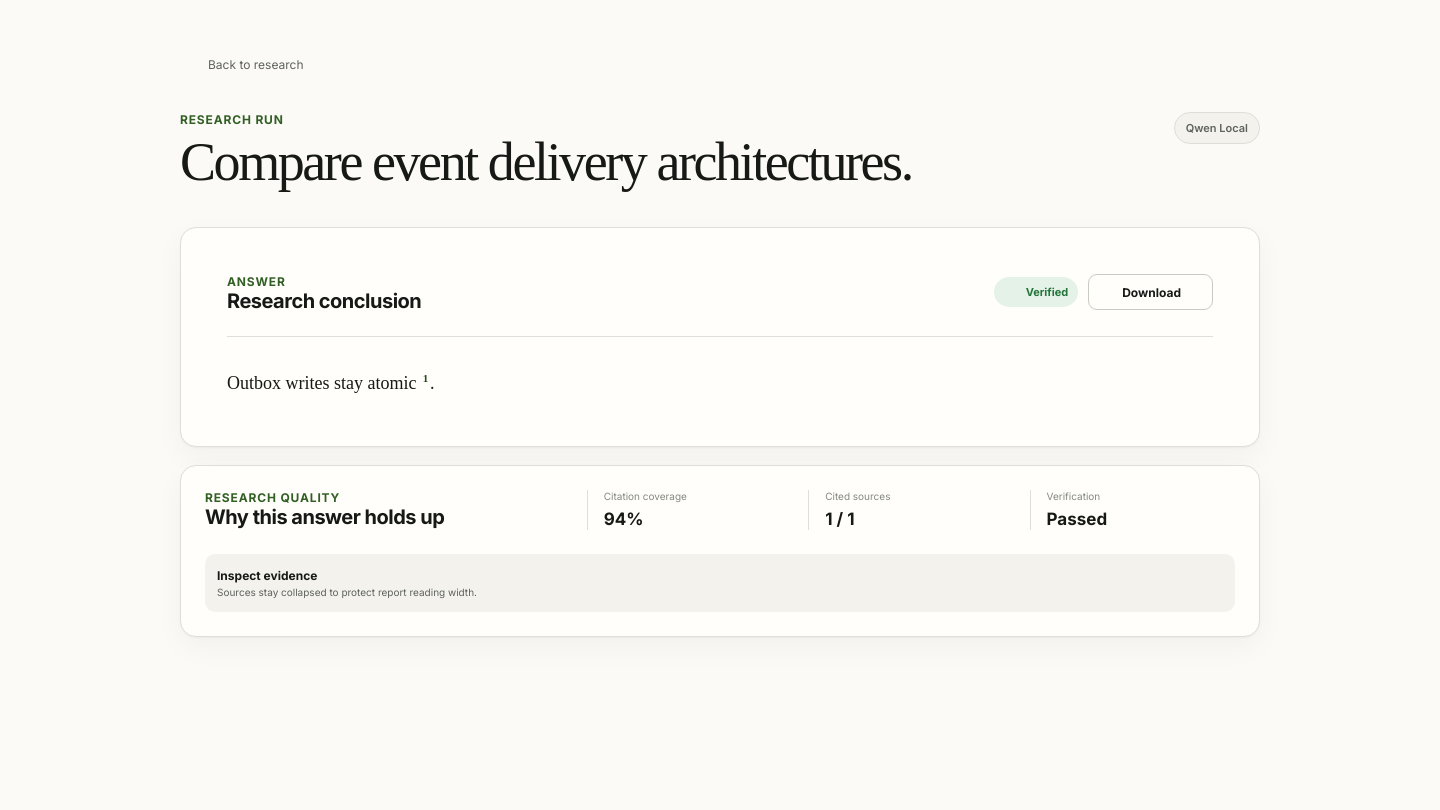
Test: ResearchDetail › turns citation markers into numbered links that jump to their source
Click the link "1" at point(425, 378), box [423,372,428,384]
(page scrolled)
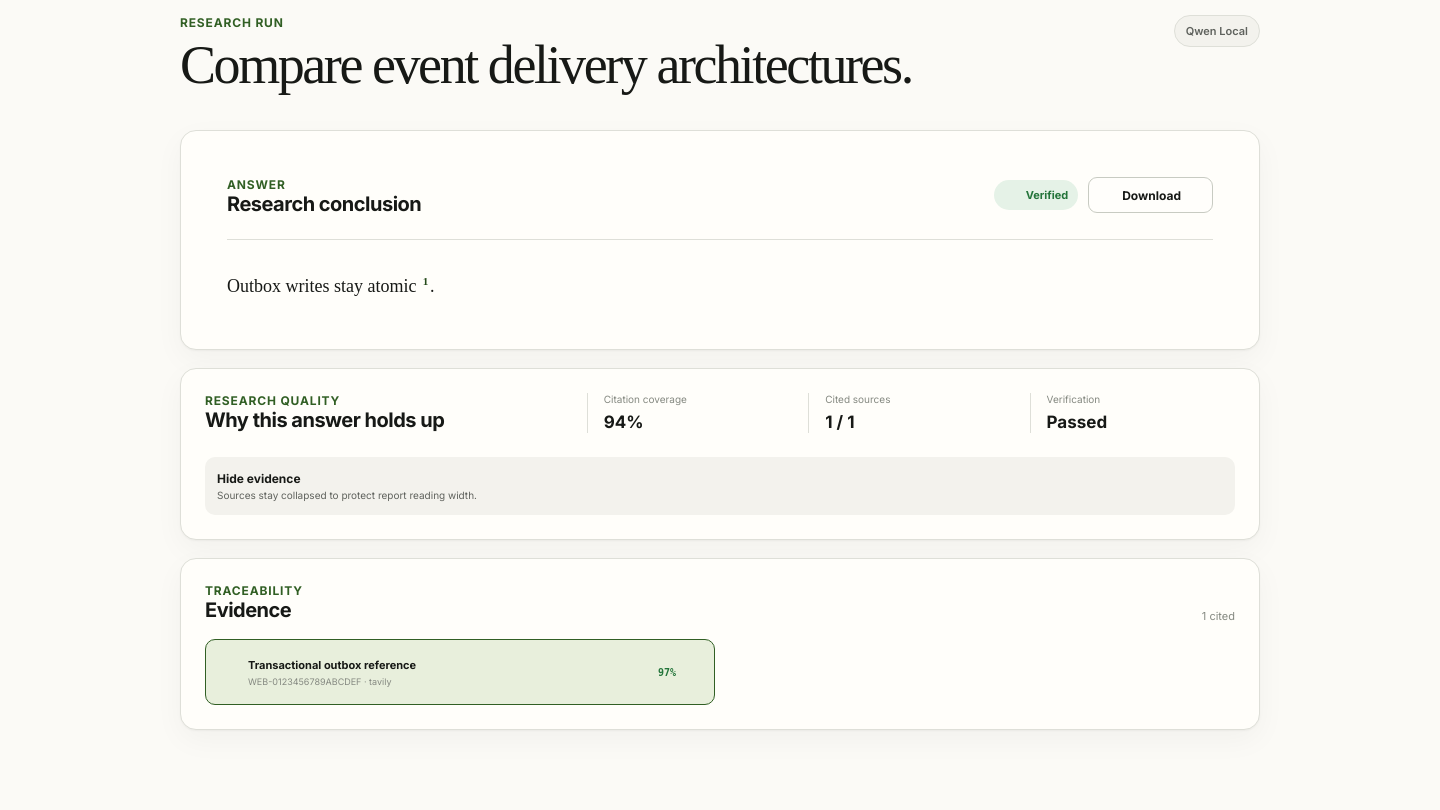
Expected: the link with class "source-card-highlighted" is shown, [205,639,715,705]
